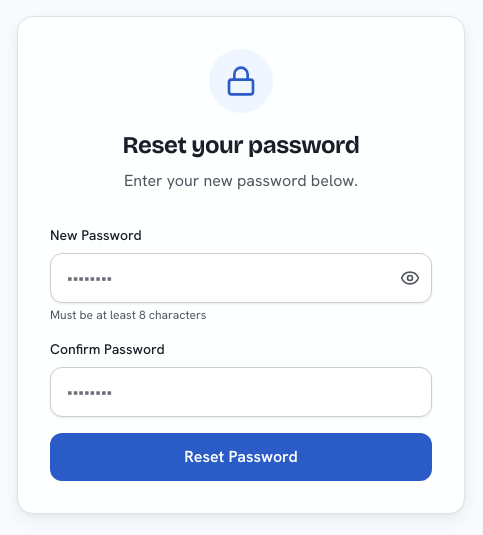
it: ResetPassword › clears the token from the address bar and still resets the password with it
Expected: the heading "Reset your password" is shown, left=122, top=131, right=359, bottom=159
Type "correct horse battery" into the password field labelled "New Password" at x=241, y=278, box left=50, top=253, right=432, bottom=303
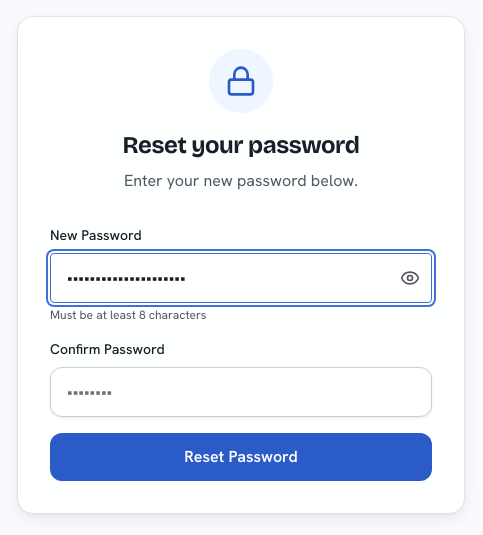
Type "correct horse battery" into the password field labelled "Confirm Password" at x=241, y=392, box left=50, top=367, right=432, bottom=417
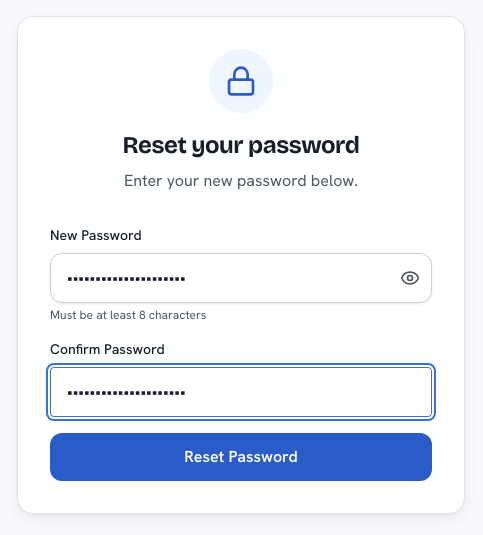
Click the button "Reset Password" at x=241, y=457, box left=50, top=433, right=432, bottom=481
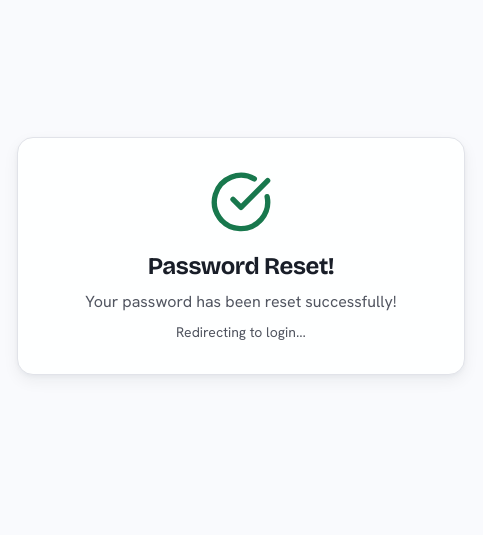
Result: the heading "Password Reset!" is shown at left=148, top=252, right=334, bottom=280
